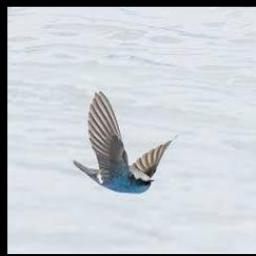Swallow: (72, 93, 176, 195)
